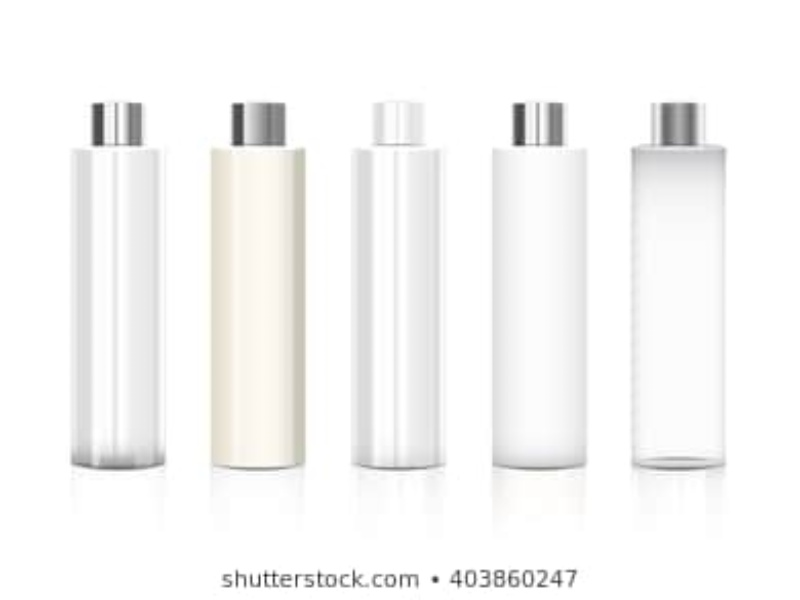shampoo-bottle: (336, 94, 470, 476), (60, 91, 190, 480), (623, 93, 746, 479), (202, 94, 321, 478), (486, 95, 605, 475)
